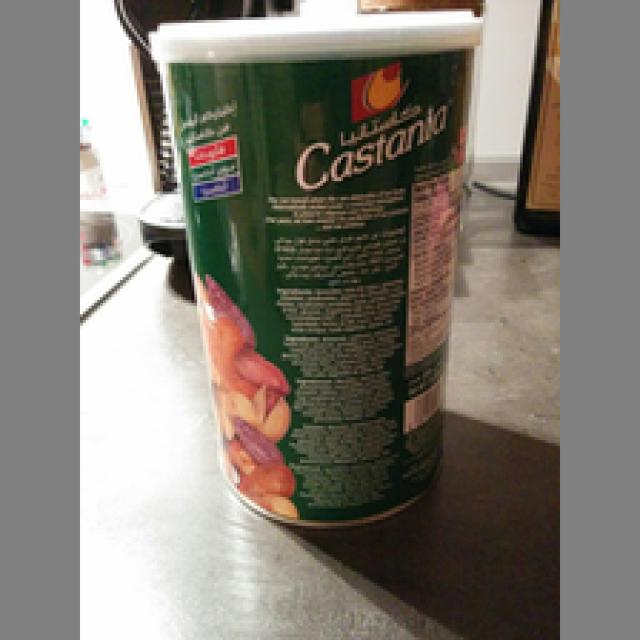groceries: (143, 6, 486, 528)
